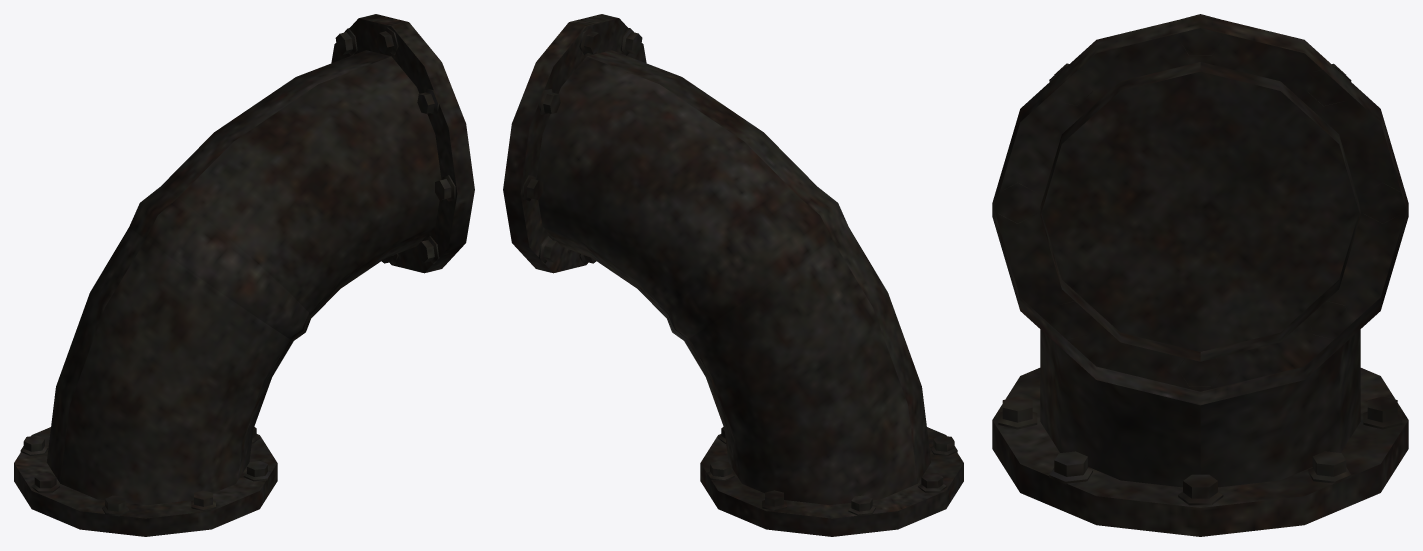
File: pipe_1_corner.fbx
The picture shows the model from 3 angles, left to right: view 1: azimuth 30°, elevation 25°; view 2: azimuth 150°, elevation 25°; view 3: azimuth 270°, elevation 25°; orthographic projection. The views are drawn at different scales.
Visible parts, largest first — view 1: pipe_1_corner; view 2: pipe_1_corner; view 3: pipe_1_corner.
Boxes of the visible parts, x1,y1,x2,y2 form: pipe_1_corner: (14, 14, 474, 536); pipe_1_corner: (503, 14, 963, 536); pipe_1_corner: (992, 14, 1408, 536).
Bounding box in the file's own units: 0.43 × 0.26 × 0.43.
